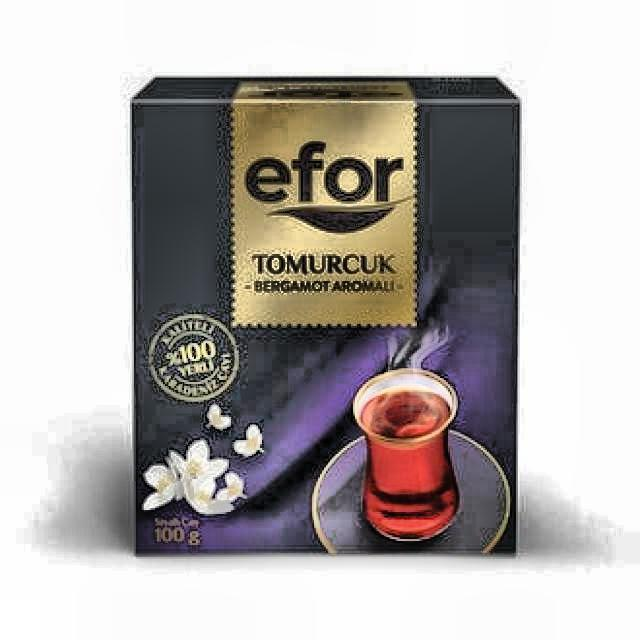cardboard: (129, 76, 522, 560)
